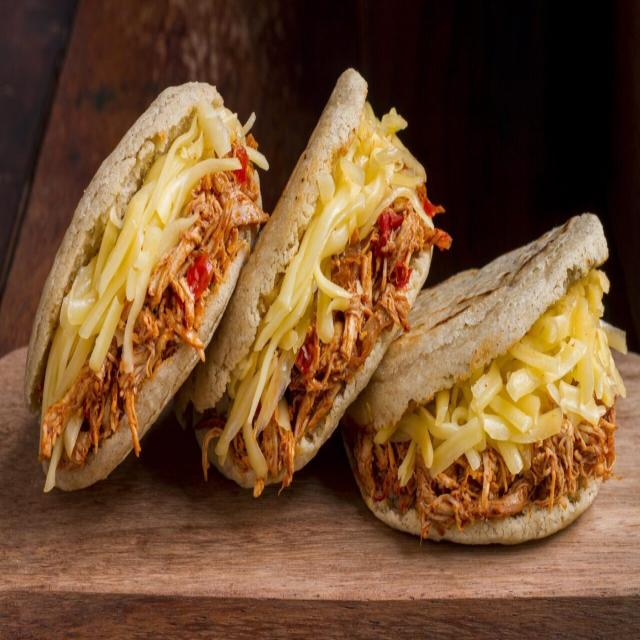carne de res: (453, 464, 588, 524)
